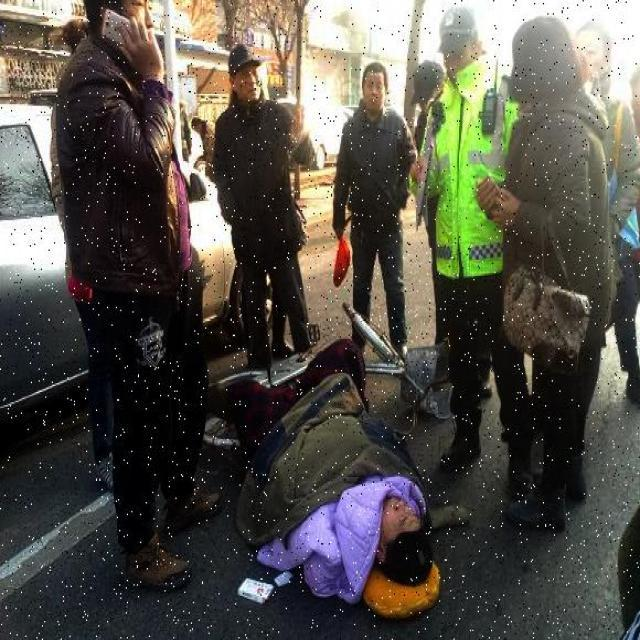fall: (225, 358, 444, 589)
